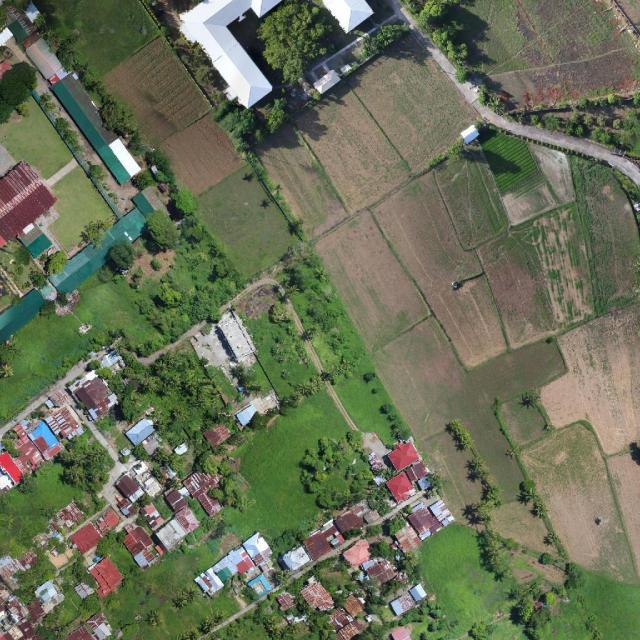agricultural_land: (242, 284, 409, 445), (322, 379, 360, 434), (282, 297, 308, 338), (301, 336, 327, 376), (0, 192, 4, 214)
building: (248, 412, 404, 550), (275, 495, 383, 579), (378, 488, 457, 561), (209, 531, 276, 591), (346, 540, 370, 566)
